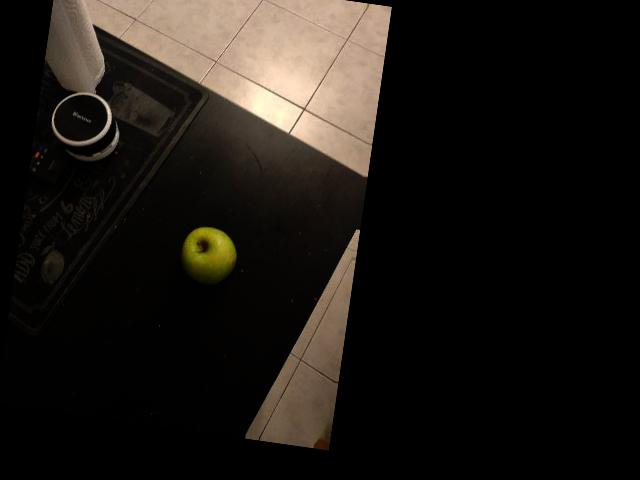apple: (260, 98, 354, 186)
